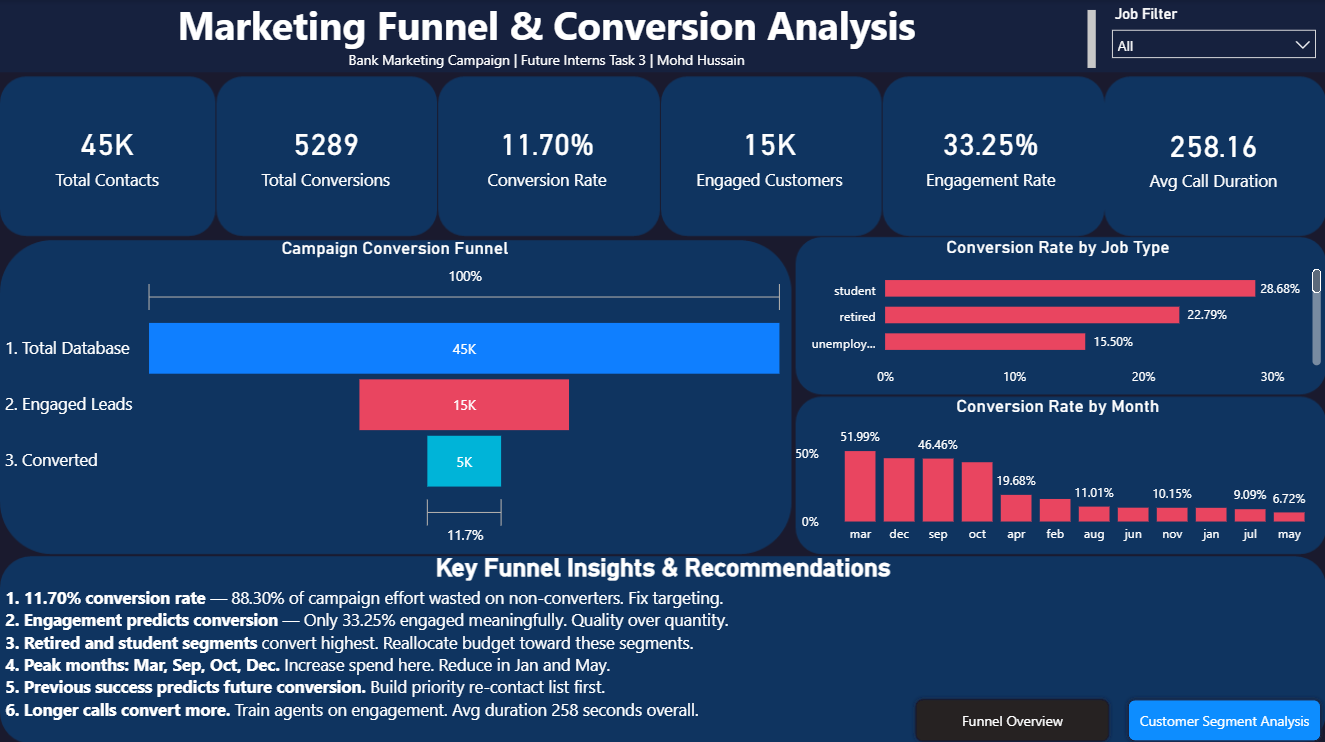

Layout of this report page (visuals, bound fields, positions):
{"tool":"powerbi","page":{"name":"Funnel Overview","canvas":[1280,720],"ordinal":0},"visuals":[{"type":"card","fields":{"Values":["bank-full.Total Contacts"]},"box":[0,70,207.2,157.8],"z":0},{"type":"card","fields":{"Values":["bank-full.Total Conversions"]},"box":[207.2,70,214.1,157.8],"z":1000},{"type":"card","fields":{"Values":["bank-full.Conversion Rate"]},"box":[421.3,70,214.1,157.8],"z":2000},{"type":"card","fields":{"Values":["bank-full.Engaged Customers"]},"box":[635.3,70,214.1,157.8],"z":3000},{"type":"card","fields":{"Values":["bank-full.Engagement Rate"]},"box":[849.4,70,214.1,157.8],"z":4000},{"type":"card","fields":{"Values":["bank-full.Avg Call Duration"]},"box":[1063.5,71.4,216.8,157.8],"z":5000},{"type":"funnel","title":"Campaign Conversion Funnel","fields":{"Category":["Funnel_Stages.Stage"],"Y":["Sum(Funnel_Stages.Customers)"]},"box":[0,229.2,762.5,304],"z":6000},{"type":"clusteredBarChart","title":"Conversion Rate by Job Type","fields":{"Y":["bank-full.Conversion Rate"],"Category":["bank-full.job"]},"box":[762.5,227.5,517.5,153.8],"z":7000},{"type":"clusteredColumnChart","title":"Conversion Rate by Month","fields":{"Y":["bank-full.Conversion Rate"],"Category":["bank-full.month"]},"box":[763,381.5,517.3,152.3],"z":8000},{"type":"textbox","title":"Key Funnel Insights & Recommendations","box":[0,533.8,1280.3,186.6],"z":9000},{"type":"slicer","fields":{"Values":["bank-full.job"]},"box":[1063.5,0,216.8,71.4],"z":10000},{"type":"textbox","box":[0,0,1062.9,71.2],"z":11000},{"type":"pageNavigator","box":[879.5,670.8,400.5,49.5],"z":12000}]}

Visuals, with their boxes in screenshot pixels (x1, y1, x2, y2), scaled from the page's 1280x720 canvas onto the 1325x742 screenshot:
card - bank-full.Total Contacts: crop(0, 72, 214, 235)
card - bank-full.Total Conversions: crop(214, 72, 436, 235)
card - bank-full.Conversion Rate: crop(436, 72, 658, 235)
card - bank-full.Engaged Customers: crop(658, 72, 879, 235)
card - bank-full.Engagement Rate: crop(879, 72, 1101, 235)
card - bank-full.Avg Call Duration: crop(1101, 74, 1324, 236)
"Campaign Conversion Funnel" funnel: crop(0, 236, 789, 549)
"Conversion Rate by Job Type" clusteredBarChart: crop(789, 234, 1324, 393)
"Conversion Rate by Month" clusteredColumnChart: crop(790, 393, 1324, 550)
"Key Funnel Insights & Recommendations" textbox: crop(0, 550, 1324, 741)
slicer - bank-full.job: crop(1101, 0, 1324, 74)
textbox: crop(0, 0, 1100, 73)
pageNavigator: crop(910, 691, 1324, 741)
